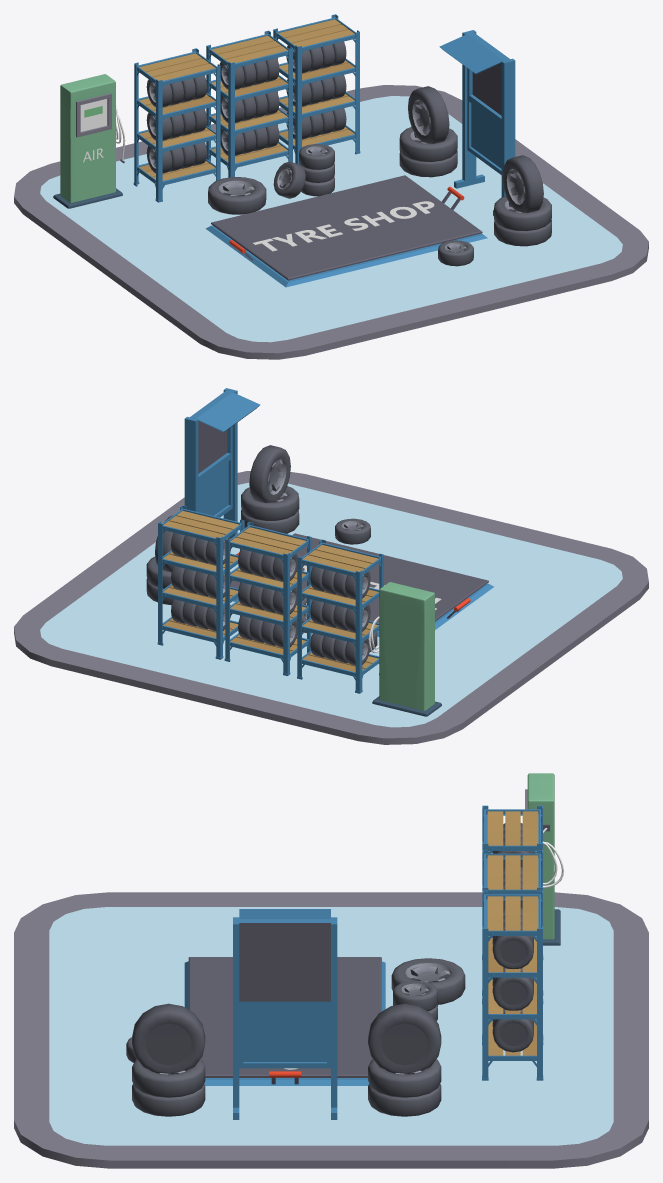
Rendered from Tyre_Shop.fbx.
3 views of the same model, one above another, from view 1: azimuth 30°, elevation 25°; view 2: azimuth 150°, elevation 25°; view 3: azimuth 270°, elevation 25° (orthographic). The views are drawn at different scales.
Parts seen in each view (by area): view 1: Floor, Stand, PolkiWood_low (×3), Poster, polySurface5, PolkiMetal_low (×3), PalkiMetal_low (×3), Wheel_7C_F.R12, Wheel_7C_F.R9, Wheel_7C_F.R4, Wheel_7C_F.R10, Wheel_7C_F.R6 (+5 smaller); view 2: Floor, PolkiWood_low (×3), polySurface5, Poster, PolkiMetal_low (×3), PalkiMetal_low (×3), Stand, Wheel_7C_F.R9, Wheel_7C_F.R6, Wheel_7C_F.R8, Wheel_7C_F.R5; view 3: Floor, Poster, Stand, PolkiWood_low (×3), Wheel_7C_F.R12, Wheel_7C_F.R9, PolkiMetal_low (×3), polySurface5, PalkiMetal_low, Wheel_7C_F.R4, Wheel_7C_F.R10, Wheel_7C_F.R6 (+6 smaller).
Part boxes in pixels (x1,y1,x2,y2): Floor: (14,85,648,359); Stand: (205,175,487,287); PolkiWood_low (×3): (139,19,354,180); Poster: (439,30,515,215); polySurface5: (53,74,125,208); PolkiMetal_low (×3): (137,17,355,185); PalkiMetal_low (×3): (133,14,360,202); Wheel_7C_F.R12: (408,86,449,143); Wheel_7C_F.R9: (502,155,543,212); Wheel_7C_F.R4: (208,177,266,214); Wheel_7C_F.R10: (399,127,457,161); Wheel_7C_F.R6: (494,196,551,231); Floor: (14,471,648,744); PolkiWood_low (×3): (163,511,378,671); polySurface5: (368,582,441,716); Poster: (184,388,260,538); PolkiMetal_low (×3): (162,508,380,676); PalkiMetal_low (×3): (157,505,383,693); Stand: (230,533,493,636); Wheel_7C_F.R9: (249,445,290,502); Wheel_7C_F.R6: (241,486,299,520); Wheel_7C_F.R8: (335,518,370,544); Wheel_7C_F.R5: (241,510,299,533); Floor: (14,892,648,1168); Poster: (233,909,337,1119); Stand: (184,957,385,1085); PolkiWood_low (×3): (487,811,538,1055); Wheel_7C_F.R12: (368,1003,441,1074); Wheel_7C_F.R9: (132,1003,205,1074); PolkiMetal_low (×3): (483,809,541,1060); polySurface5: (525,773,563,945); PalkiMetal_low: (482,890,543,1080); Wheel_7C_F.R4: (391,958,465,1004); Wheel_7C_F.R10: (368,1059,441,1097); Wheel_7C_F.R6: (132,1059,205,1097).
Bounding box in the file's own units: 39.05 × 13.46 × 39.05.
Materials: 2 (1 with a texture image).
